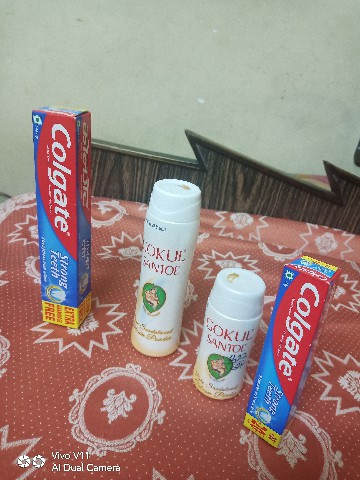colgatetoothpaste big: (26, 99, 105, 348)
colgatetoothpaste small: (243, 246, 336, 451)
gokulsantol big: (129, 179, 205, 371)
gokulsantol small: (195, 255, 264, 417)
